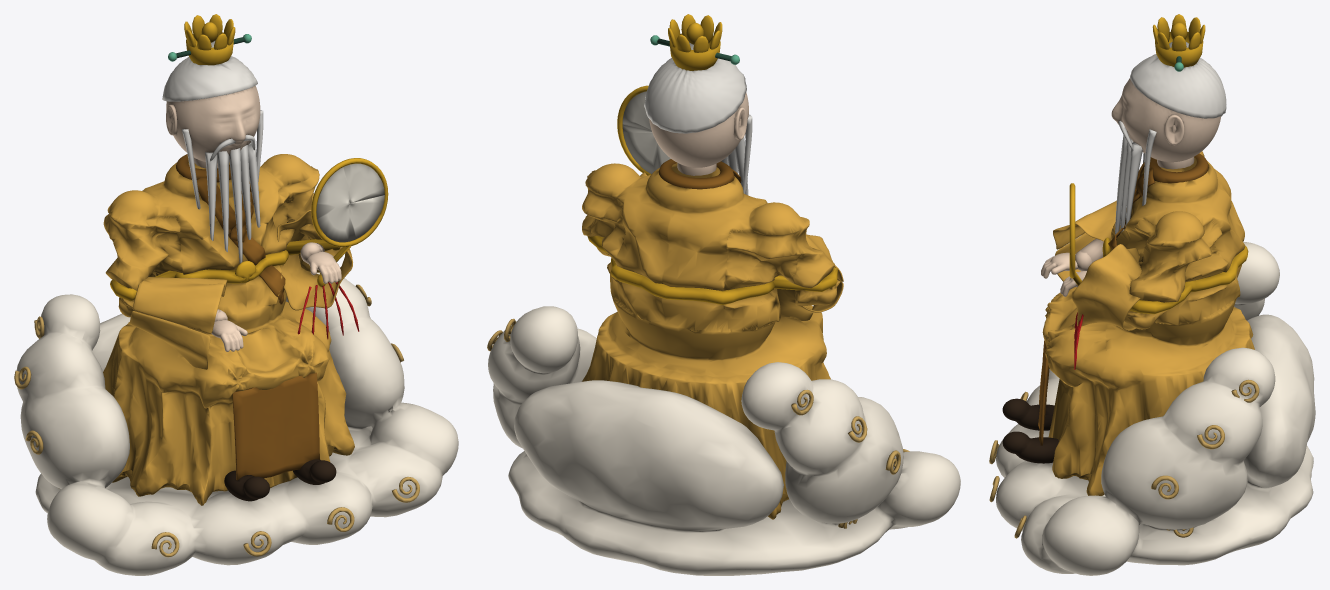
Rendered from daode.glb.
3 views of the same model, side by side, from view 1: azimuth 30°, elevation 25°; view 2: azimuth 150°, elevation 25°; view 3: azimuth 270°, elevation 25° (orthographic). The views are drawn at different scales.
Visible parts, largest first — view 1: DD_Cloud, DD_Robe, DD_Apron, DD_SleeveL, DD_Beard, DD_HeadMesh, DD_FanFace, DD_HairCap, DD_SleeveR, DD_CloudGold, DD_Belt, DD_Crown (+6 smaller); view 2: DD_Cloud, DD_Robe, DD_HairCap, DD_Belt, DD_HeadMesh, DD_Crown, DD_FanFace, DD_CloudGold, DD_SleeveL, DD_Collar, DD_Beard, DD_FanRim; view 3: DD_Cloud, DD_Robe, DD_HairCap, DD_HeadMesh, DD_SleeveR, DD_Boots, DD_Beard, DD_Crown, DD_SleeveL, DD_CloudGold, DD_Belt, DD_Collar (+6 smaller).
Boxes of the visible parts, bbox=[...] form: DD_Cloud: bbox=[16, 272, 458, 575]; DD_Robe: bbox=[103, 154, 354, 505]; DD_Apron: bbox=[232, 372, 319, 480]; DD_SleeveL: bbox=[129, 277, 227, 369]; DD_Beard: bbox=[182, 110, 263, 263]; DD_HeadMesh: bbox=[166, 85, 260, 162]; DD_FanFace: bbox=[316, 163, 384, 242]; DD_HairCap: bbox=[162, 56, 257, 101]; DD_SleeveR: bbox=[277, 210, 352, 310]; DD_CloudGold: bbox=[14, 284, 419, 557]; DD_Belt: bbox=[110, 239, 339, 301]; DD_Crown: bbox=[184, 14, 235, 65]; DD_Cloud: bbox=[488, 306, 960, 575]; DD_Robe: bbox=[582, 163, 840, 519]; DD_HairCap: bbox=[644, 58, 746, 133]; DD_Belt: bbox=[587, 236, 838, 304]; DD_HeadMesh: bbox=[649, 92, 748, 167]; DD_Crown: bbox=[668, 14, 722, 70]; DD_FanFace: bbox=[622, 91, 670, 173]; DD_CloudGold: bbox=[487, 318, 909, 528]; DD_SleeveL: bbox=[777, 234, 843, 320]; DD_Collar: bbox=[659, 159, 734, 189]; DD_Beard: bbox=[721, 114, 752, 194]; DD_FanRim: bbox=[617, 85, 651, 175]; DD_Cloud: bbox=[996, 242, 1315, 575]; DD_Robe: bbox=[1042, 151, 1254, 495]; DD_HairCap: bbox=[1130, 54, 1226, 118]; DD_HeadMesh: bbox=[1111, 78, 1221, 162]; DD_SleeveR: bbox=[1072, 244, 1141, 330]; DD_Boots: bbox=[1002, 398, 1058, 463]; DD_Beard: bbox=[1115, 121, 1156, 234]; DD_Crown: bbox=[1152, 14, 1205, 67]; DD_SleeveL: bbox=[1053, 200, 1116, 281]; DD_CloudGold: bbox=[989, 379, 1259, 538]; DD_Belt: bbox=[1102, 237, 1248, 314]; DD_Collar: bbox=[1149, 153, 1208, 183].
Size of the model in its own units: 1.91 by 2.23 by 1.35.
